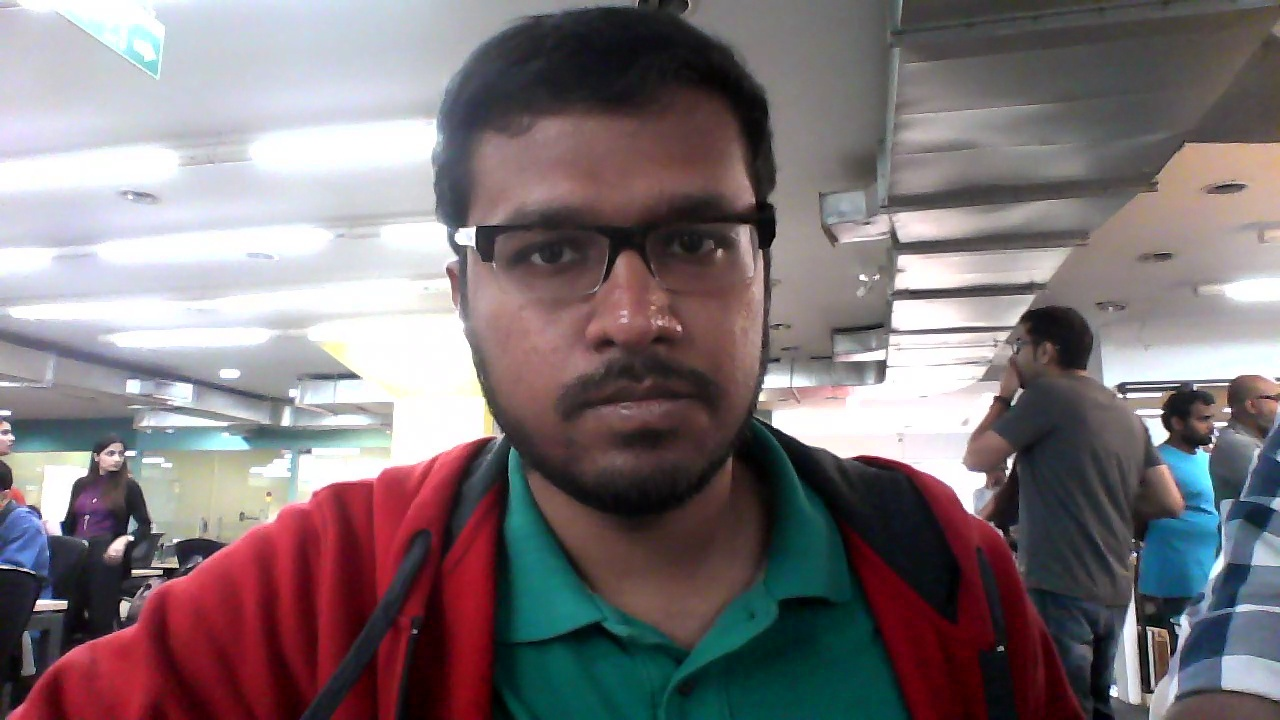open: (432, 4, 788, 520)
